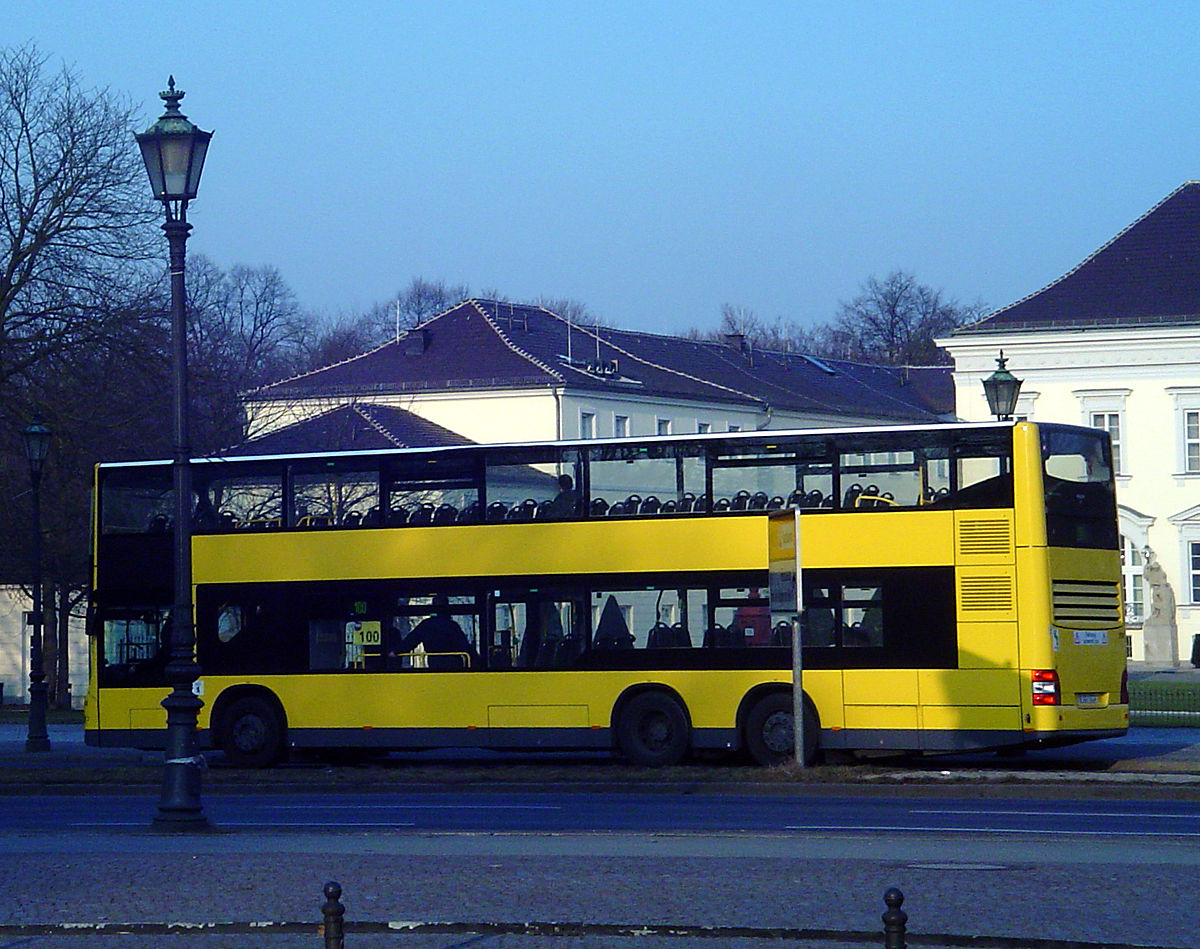bus: (84, 414, 1132, 766)
